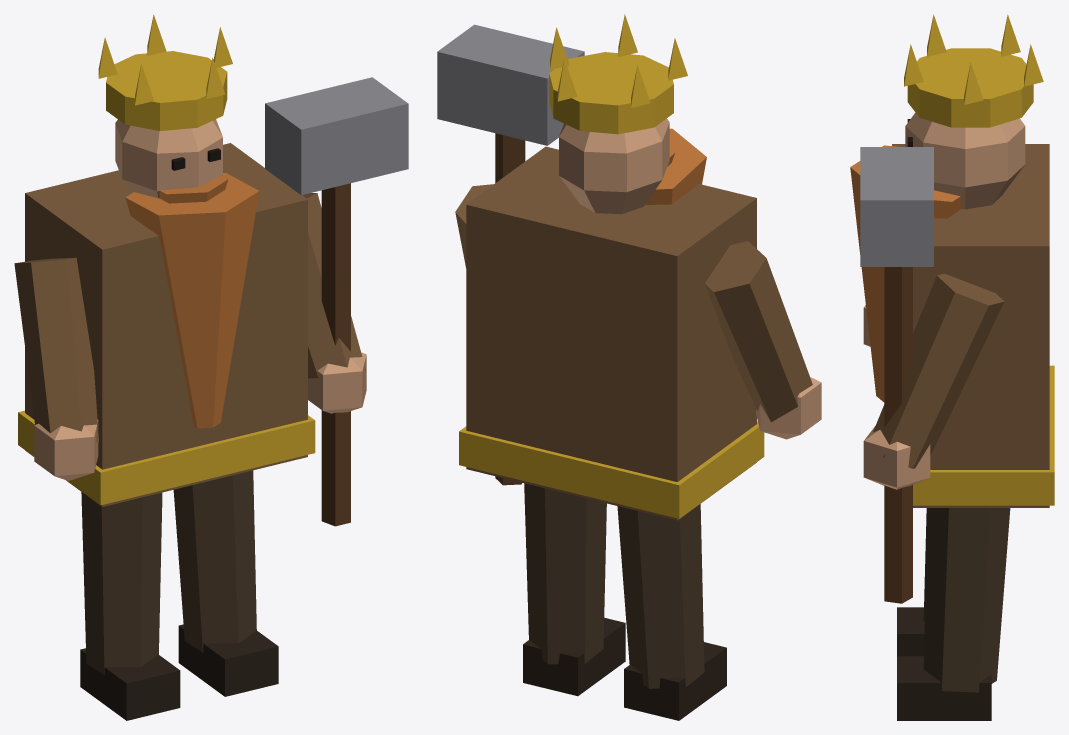
The model's file is zwergenkoenig.glb.
3 views of the same model, side by side, from view 1: azimuth 30°, elevation 25°; view 2: azimuth 150°, elevation 25°; view 3: azimuth 270°, elevation 25° (orthographic). The views are drawn at different scales.
Size of the model in its own units: 0.7739 by 1.36 by 0.3893.
Materials: 1 (1 with a texture image).
